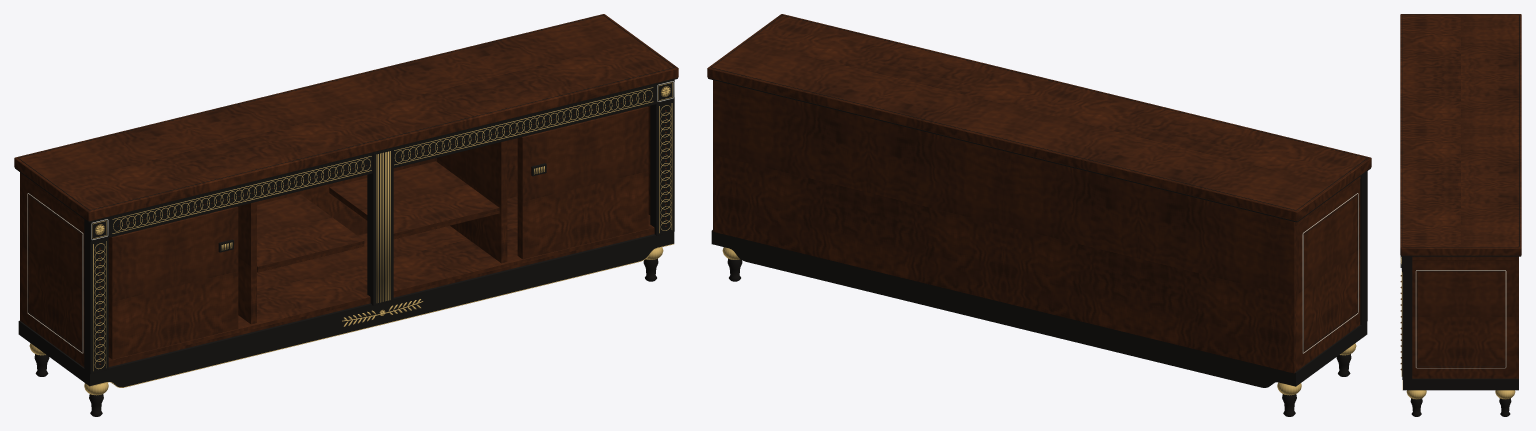
The picture shows the model from 3 angles, left to right: view 1: azimuth 30°, elevation 25°; view 2: azimuth 150°, elevation 25°; view 3: azimuth 270°, elevation 25°; orthographic projection. The views are drawn at different scales.
Visible parts, largest first — view 1: Nantes television furniture | living-8 web batch; view 2: Nantes television furniture | living-8 web batch; view 3: Nantes television furniture | living-8 web batch.
Part boxes in pixels (x1=…): Nantes television furniture | living-8 web batch: x1=14, y1=14, x2=678, y2=416; Nantes television furniture | living-8 web batch: x1=707, y1=14, x2=1371, y2=416; Nantes television furniture | living-8 web batch: x1=1400, y1=14, x2=1521, y2=416.
Size of the model in its own units: 2.19 by 0.7611 by 0.48.
7 materials, 2 textured.
